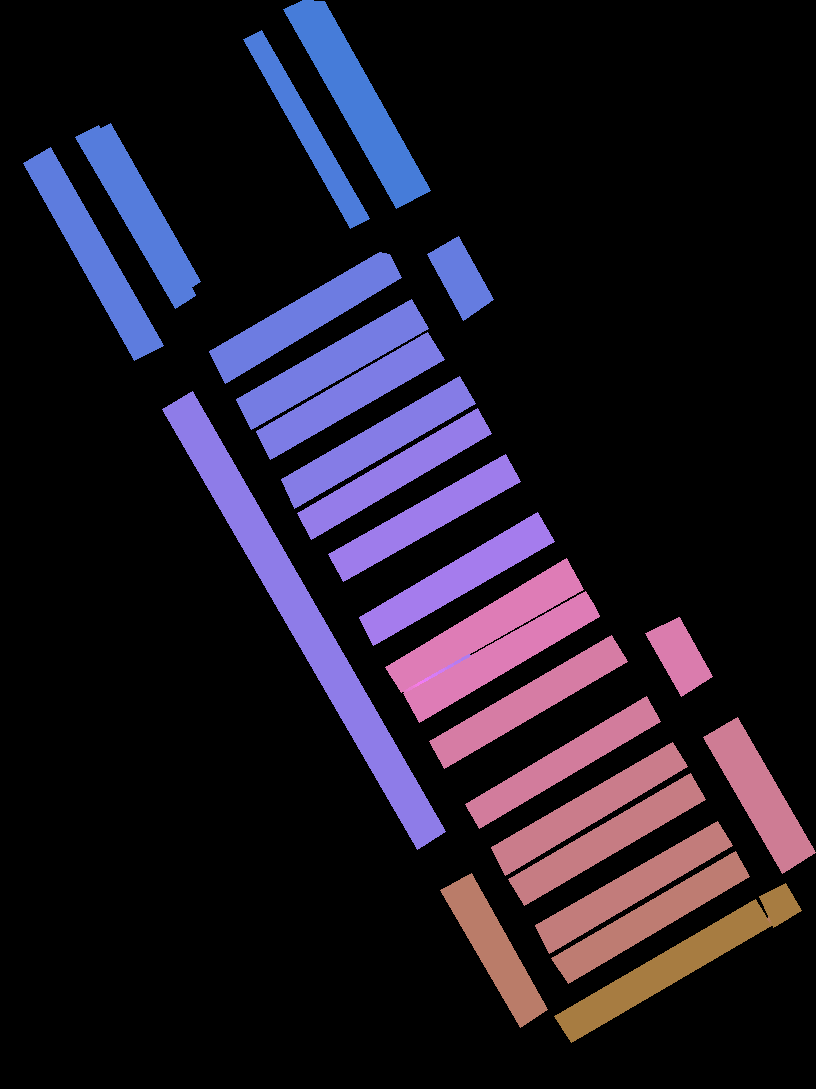parkingspot: (162, 391, 445, 849), (554, 899, 771, 1042), (283, 0, 430, 208), (23, 147, 163, 360), (385, 558, 583, 692), (429, 635, 627, 768), (551, 851, 749, 983), (491, 742, 687, 875), (508, 773, 705, 905), (535, 821, 732, 953), (359, 512, 554, 645), (465, 696, 660, 828), (403, 591, 599, 722), (281, 376, 475, 508), (297, 408, 491, 539), (209, 252, 401, 383), (236, 299, 428, 429), (243, 30, 369, 228), (328, 454, 520, 581), (256, 332, 444, 459), (75, 123, 200, 308), (703, 717, 815, 873), (440, 873, 547, 1027), (427, 236, 493, 320), (645, 617, 712, 696), (759, 883, 801, 927)
